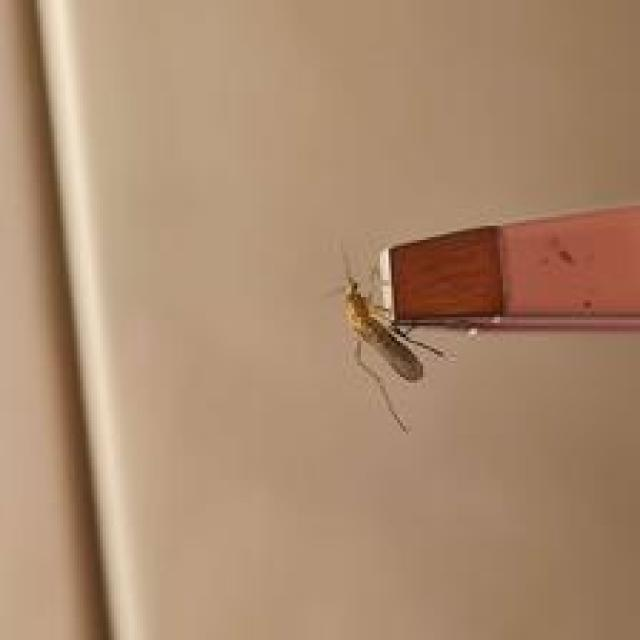Culex: (334, 194, 640, 434)
